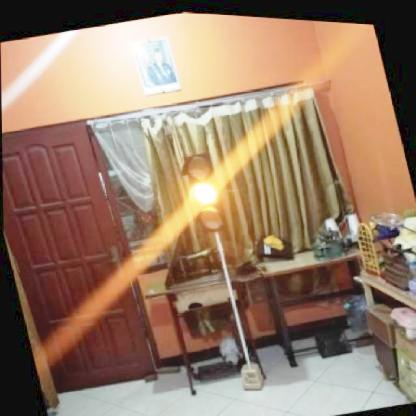Traffic Light -Yellow-: (177, 147, 228, 234)
